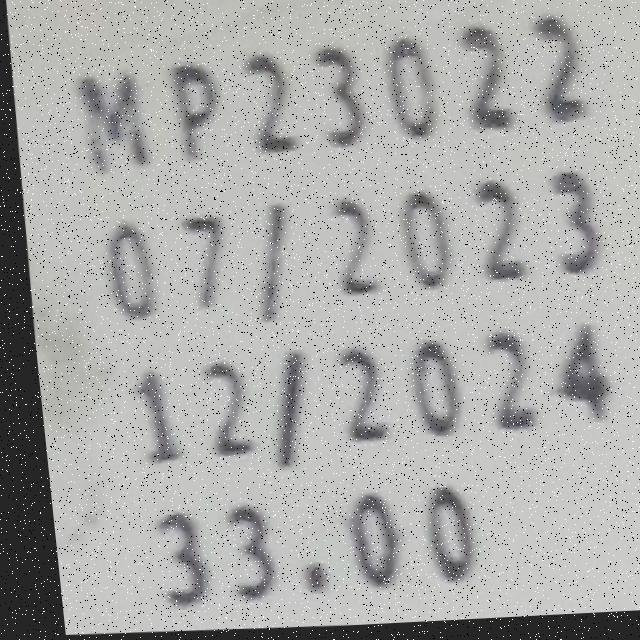sentence: (76, 22, 582, 171), (103, 178, 593, 324), (123, 328, 610, 470), (144, 490, 462, 608)
